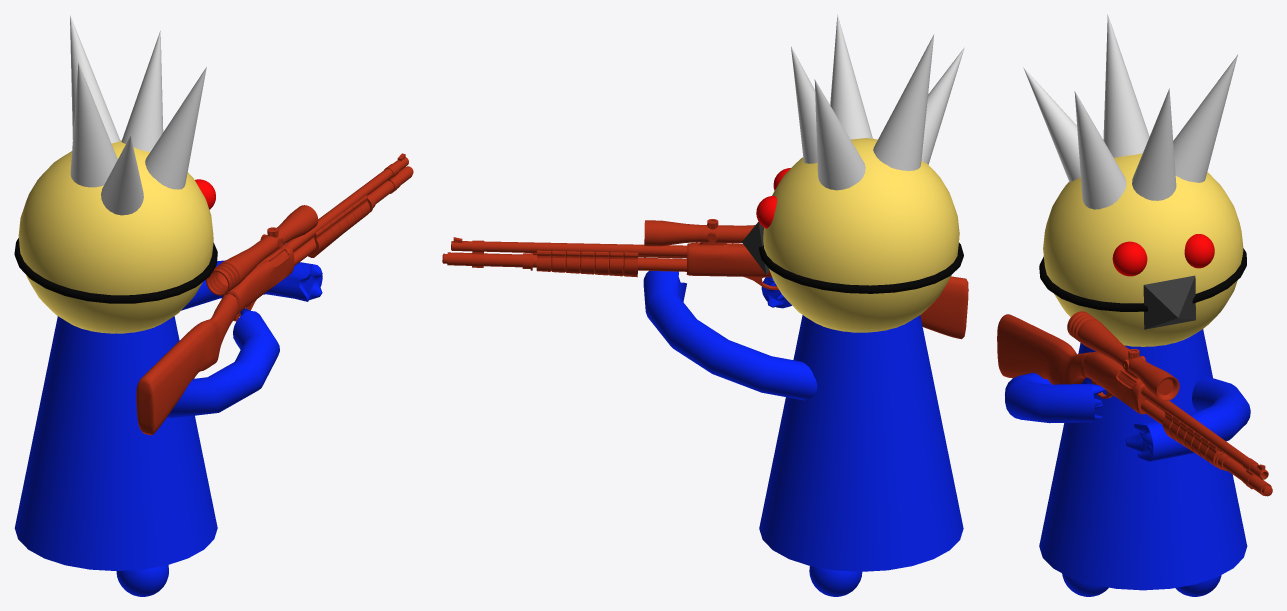
Rendered from enemy.FBX.
The picture shows the model from 3 angles, left to right: view 1: azimuth 30°, elevation 25°; view 2: azimuth 150°, elevation 25°; view 3: azimuth 270°, elevation 25°; orthographic projection. The views are drawn at different scales.
Visible parts, largest first — view 1: Cone001, Sphere001, butt of the rifle, Cylinder001, Cone003, Cone004, Cone005, Torus001, Cone006, aim, corps, Cylinder002 (+6 smaller); view 2: Cone001, Sphere001, Cylinder002, Cone003, Cone002, Cone004, corps, shutter, barrel, aim, butt of the rifle, Torus001 (+4 smaller); view 3: Cone001, Sphere001, Cylinder002, butt of the rifle, Cylinder001, Cone003, Cone002, Cone004, Cone005, Pyramid001, aim, Cone006 (+10 smaller).
Boxes of the visible parts, x1=… form: Cone001: x1=14, y1=316, x2=217, y2=570; Sphere001: x1=18, y1=140, x2=213, y2=333; butt of the rifle: x1=136, y1=294, x2=238, y2=435; Cylinder001: x1=167, y1=308, x2=279, y2=418; Cone003: x1=70, y1=62, x2=117, y2=187; Cone004: x1=145, y1=66, x2=206, y2=189; Cone005: x1=121, y1=30, x2=163, y2=151; Torus001: x1=14, y1=238, x2=217, y2=303; Cone006: x1=101, y1=136, x2=143, y2=215; aim: x1=218, y1=205, x2=318, y2=284; corps: x1=222, y1=244, x2=294, y2=314; Cylinder002: x1=181, y1=260, x2=322, y2=310; Cone001: x1=759, y1=315, x2=963, y2=571; Sphere001: x1=763, y1=138, x2=959, y2=332; Cylinder002: x1=643, y1=271, x2=817, y2=400; Cone003: x1=873, y1=34, x2=934, y2=170; Cone002: x1=814, y1=79, x2=865, y2=190; Cone004: x1=830, y1=14, x2=872, y2=139; corps: x1=686, y1=242, x2=771, y2=277; shutter: x1=536, y1=250, x2=638, y2=277; barrel: x1=451, y1=241, x2=687, y2=257; aim: x1=644, y1=220, x2=755, y2=246; butt of the rifle: x1=920, y1=276, x2=968, y2=339; Torus001: x1=759, y1=242, x2=963, y2=293; Cone001: x1=1039, y1=329, x2=1247, y2=590; Sphere001: x1=1043, y1=153, x2=1243, y2=346; Cylinder002: x1=1125, y1=376, x2=1250, y2=461; butt of the rifle: x1=997, y1=314, x2=1091, y2=384; Cylinder001: x1=1005, y1=372, x2=1106, y2=423; Cone003: x1=1103, y1=14, x2=1149, y2=157; Cone002: x1=1173, y1=54, x2=1237, y2=182; Cone004: x1=1074, y1=91, x2=1126, y2=209; Cone005: x1=1132, y1=88, x2=1176, y2=200; Pyramid001: x1=1143, y1=275, x2=1195, y2=329; aim: x1=1080, y1=320, x2=1179, y2=401; Cone006: x1=1023, y1=67, x2=1080, y2=182.
Size of the model in its own units: 46.95 by 54.42 by 24.6.
